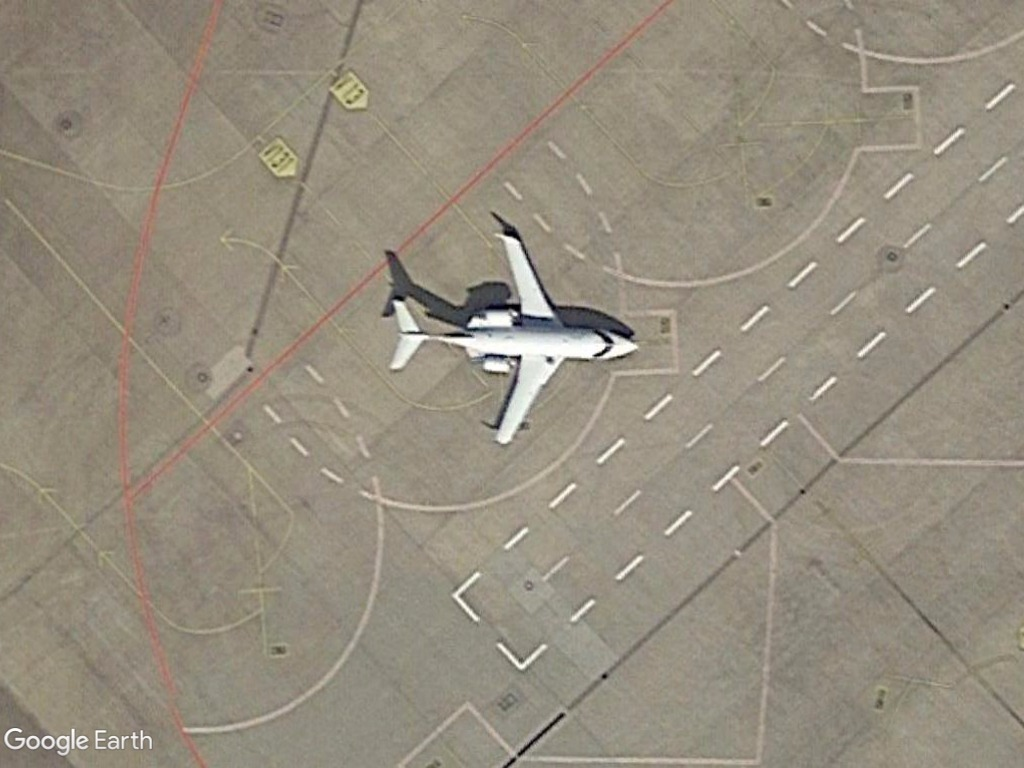chartered: (356, 213, 653, 459)
